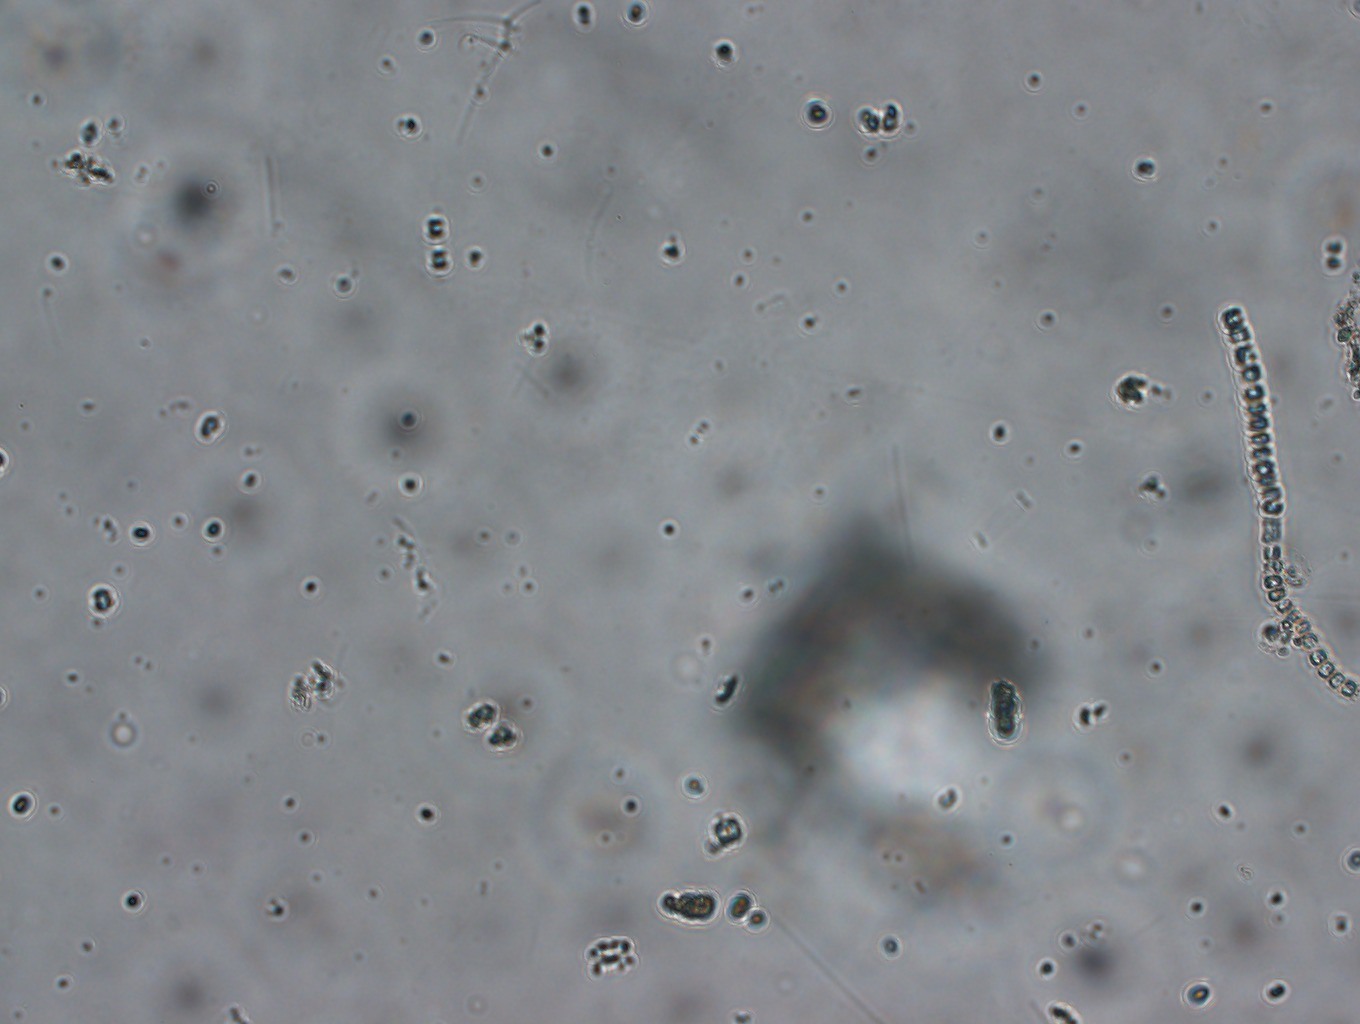skeletonema: (1191, 290, 1357, 706)
